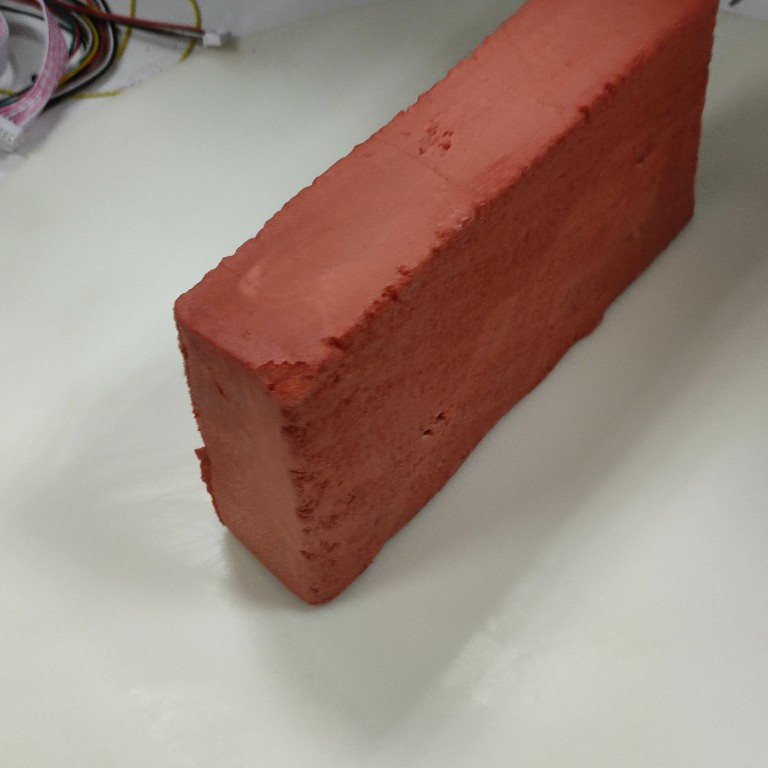brick: (168, 1, 725, 611)
